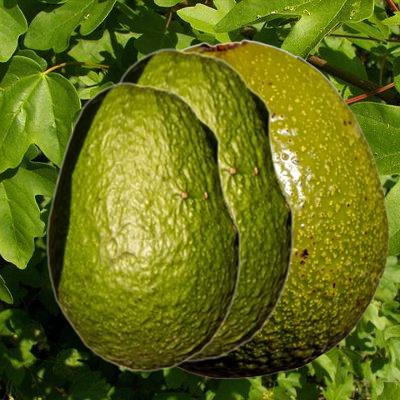avocado: (175, 39, 388, 377), (46, 81, 240, 371), (117, 47, 293, 361)
